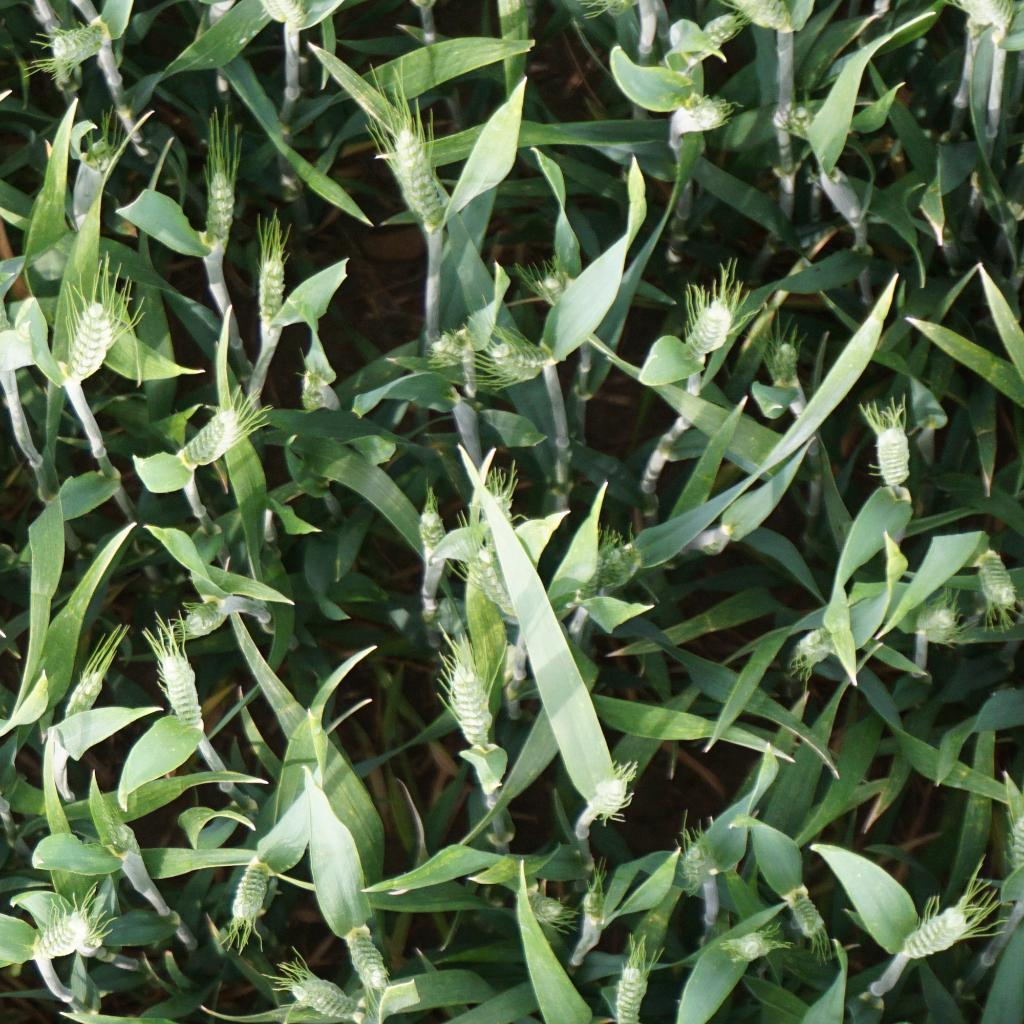0-0: (899, 891, 985, 958), (398, 120, 443, 232), (177, 399, 249, 467), (68, 296, 120, 385), (449, 659, 495, 752), (472, 543, 527, 619), (162, 645, 206, 734), (681, 11, 753, 64), (31, 903, 91, 961), (288, 968, 355, 1019), (684, 289, 732, 356), (52, 19, 105, 76), (176, 591, 240, 638), (968, 549, 1017, 607), (231, 861, 275, 925), (344, 926, 388, 988), (680, 87, 734, 137), (589, 768, 635, 823), (204, 170, 236, 247), (491, 340, 549, 382), (872, 428, 912, 487), (259, 251, 288, 332), (615, 961, 652, 1024), (798, 621, 845, 665), (582, 540, 616, 600), (67, 661, 99, 723), (787, 894, 828, 942), (104, 813, 143, 863), (483, 491, 517, 547), (727, 927, 779, 963), (919, 601, 961, 642), (599, 541, 634, 588), (677, 837, 707, 891), (517, 893, 567, 925), (419, 500, 444, 557), (84, 132, 116, 175), (430, 328, 469, 361), (772, 336, 797, 384), (783, 103, 816, 134), (532, 274, 566, 300), (583, 884, 608, 919)
